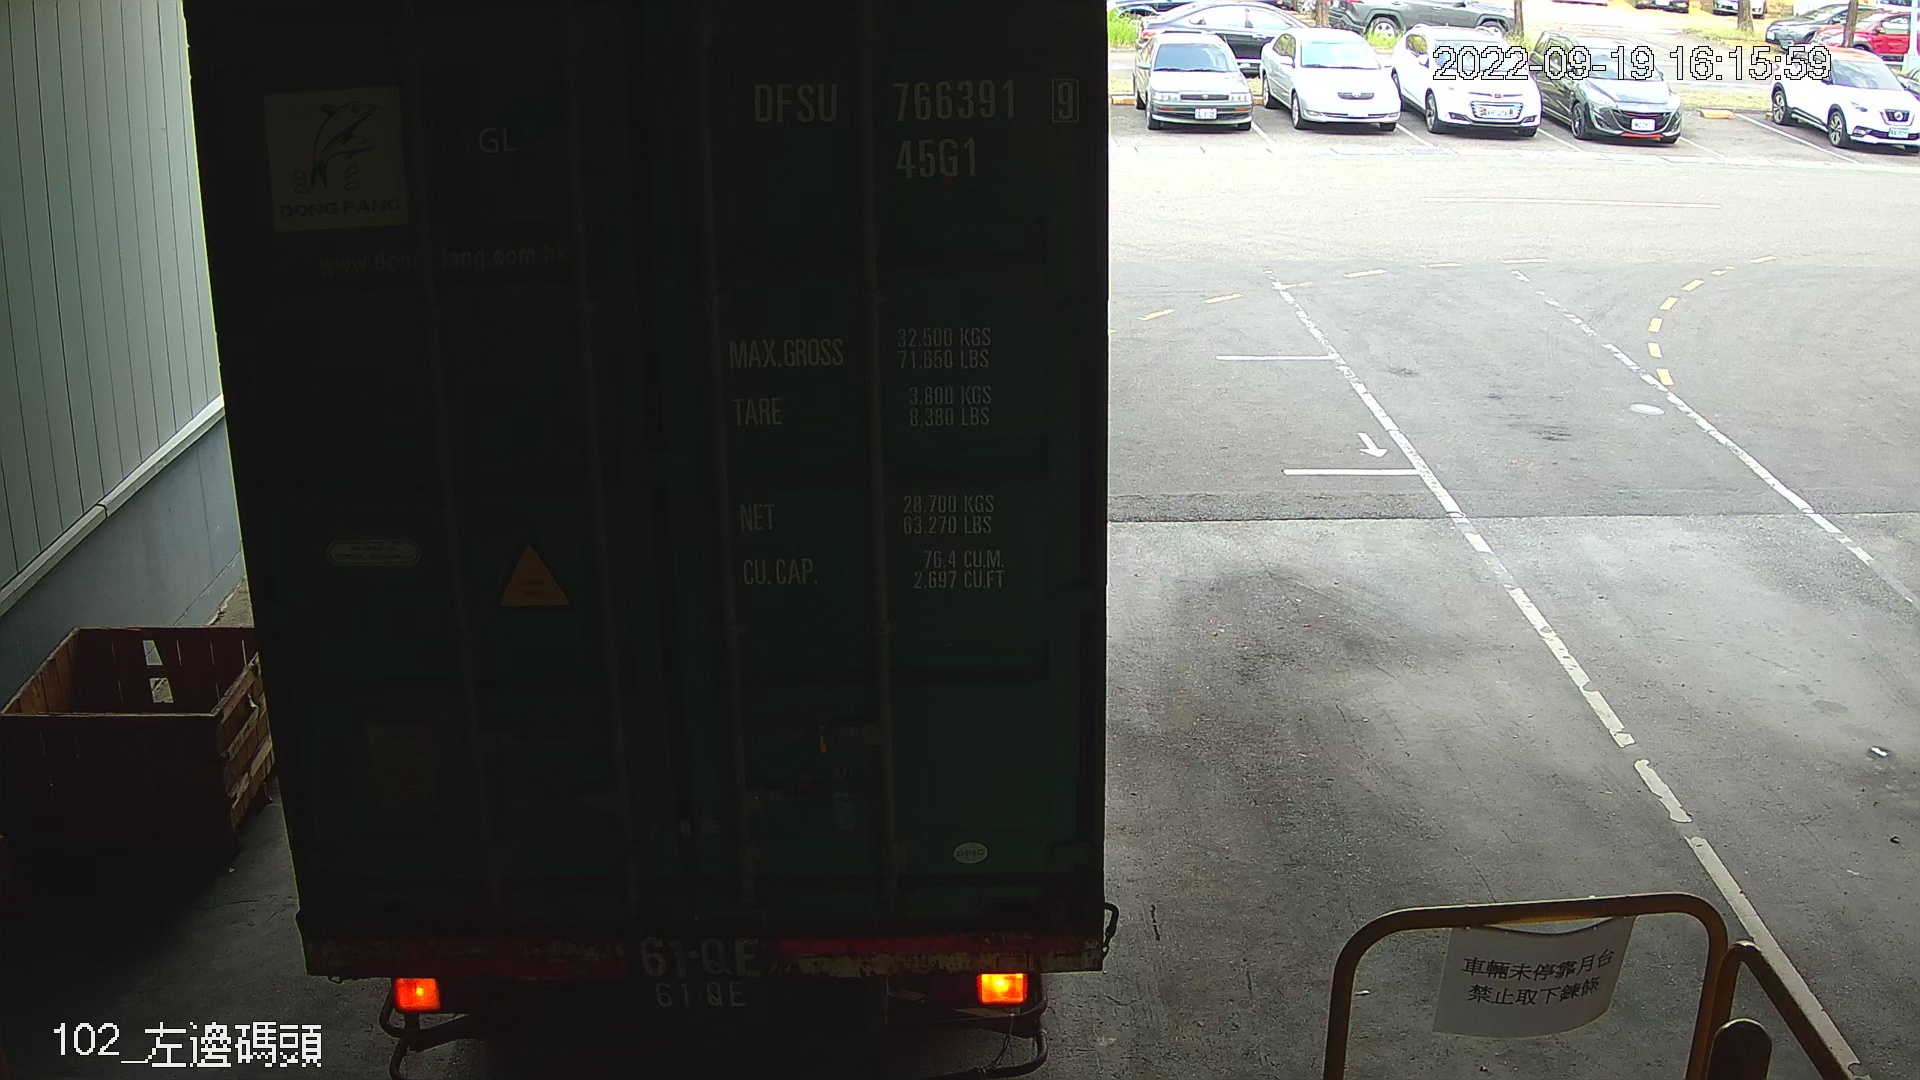container: (732, 58, 1095, 186)
